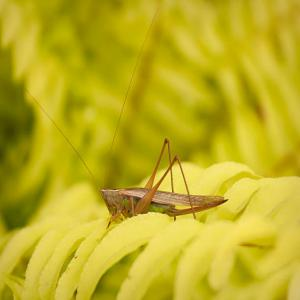locust: (60, 130, 257, 238)
